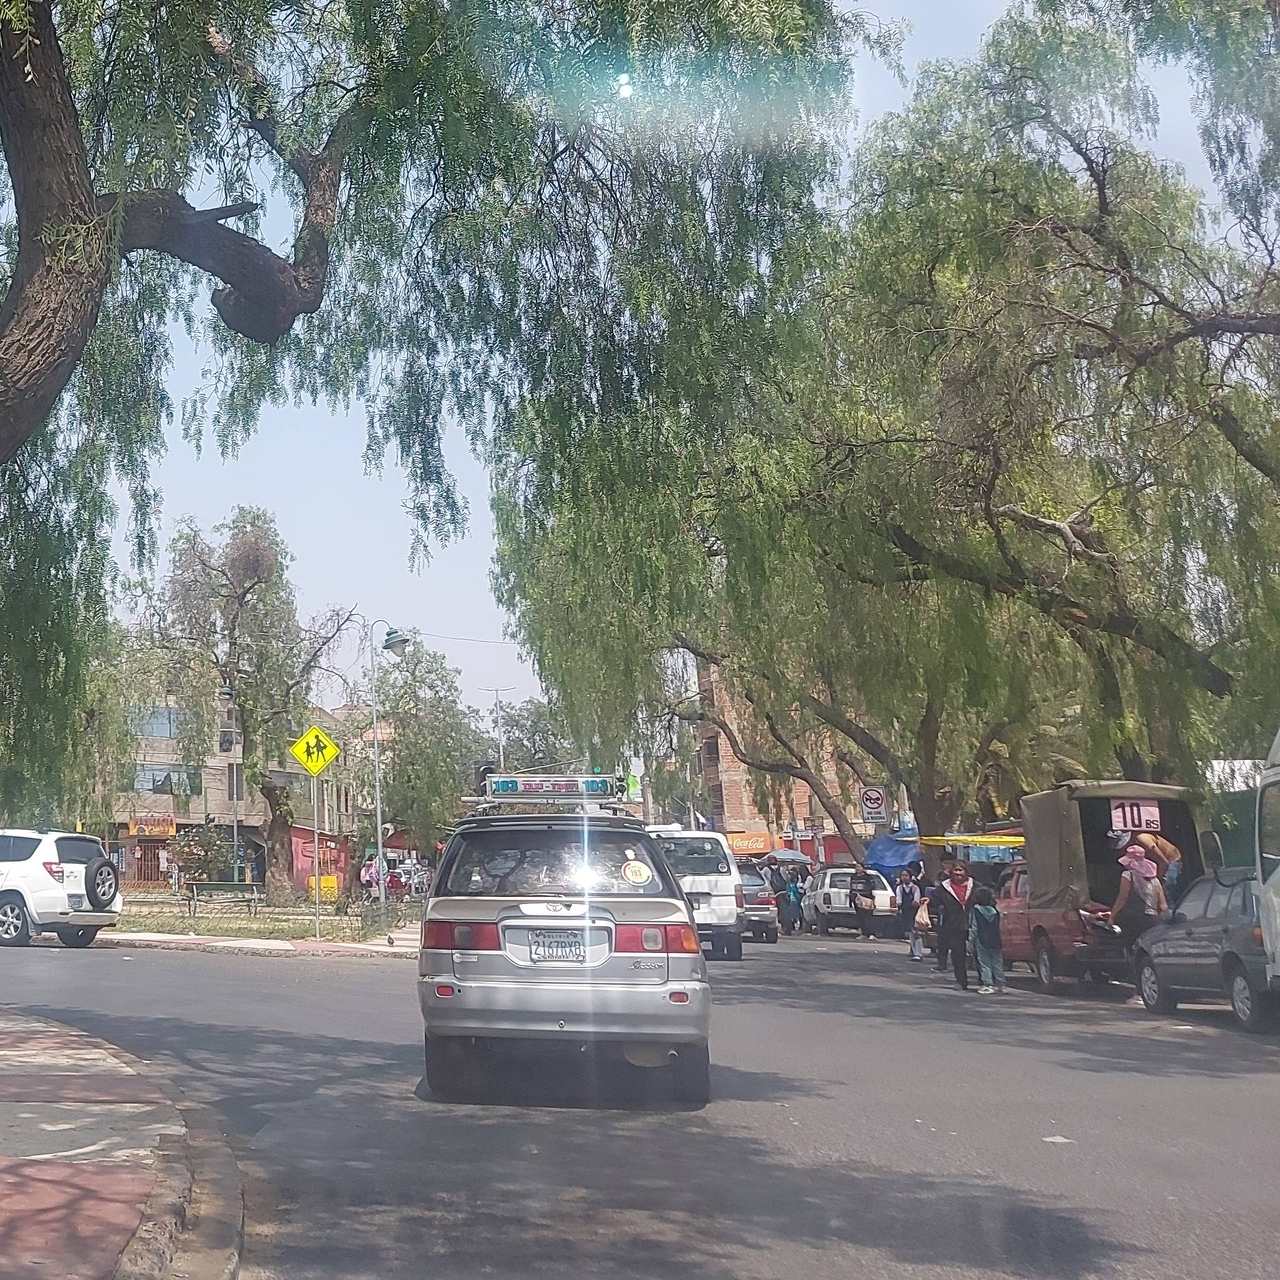zona-escolar: (285, 726, 340, 781)
